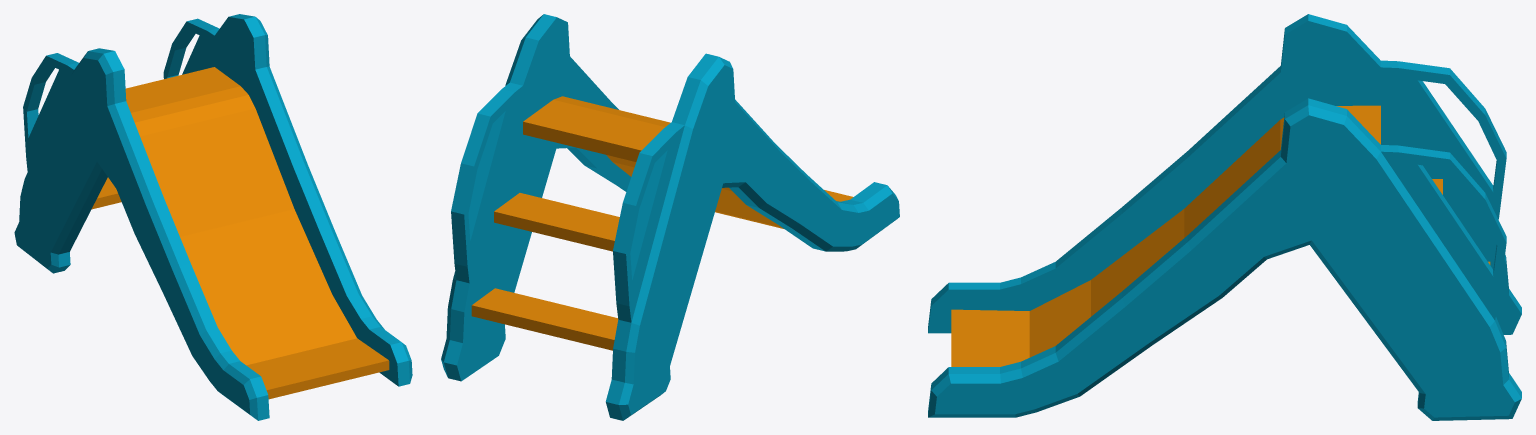
Rendered from Toboggan.fbx.
3 views of the same model, side by side, from view 1: azimuth 30°, elevation 25°; view 2: azimuth 150°, elevation 25°; view 3: azimuth 270°, elevation 25° (orthographic). The views are drawn at different scales.
Visible parts, largest first — view 1: Toboggan; view 2: Toboggan; view 3: Toboggan.
Part boxes in pixels (box(x1,y1,x2,y2)): Toboggan: box(14, 14, 412, 420); Toboggan: box(441, 14, 899, 420); Toboggan: box(928, 14, 1521, 420).
Bounding box in the file's own units: 40.48 × 61.18 × 104.
